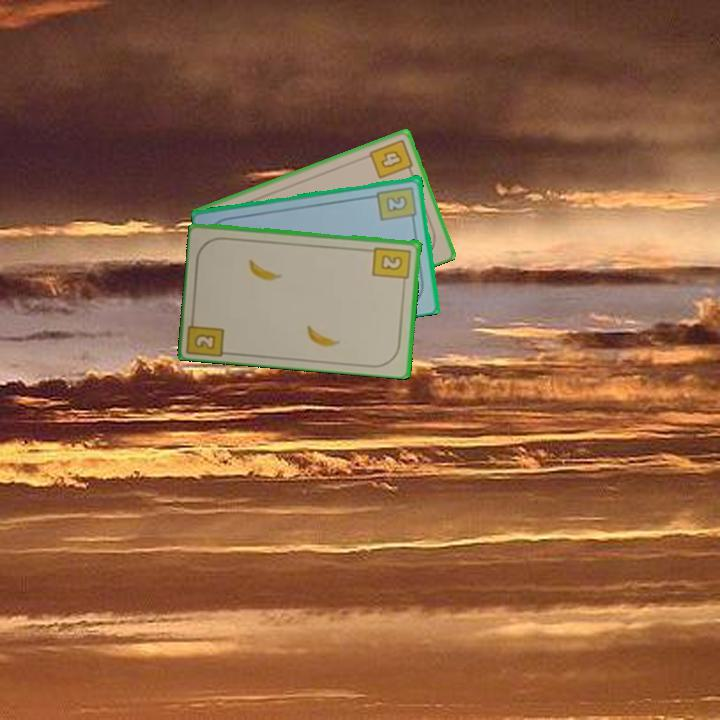2b: (186, 311, 228, 358), (370, 243, 414, 287), (374, 183, 420, 225)
4b: (366, 135, 416, 181)
